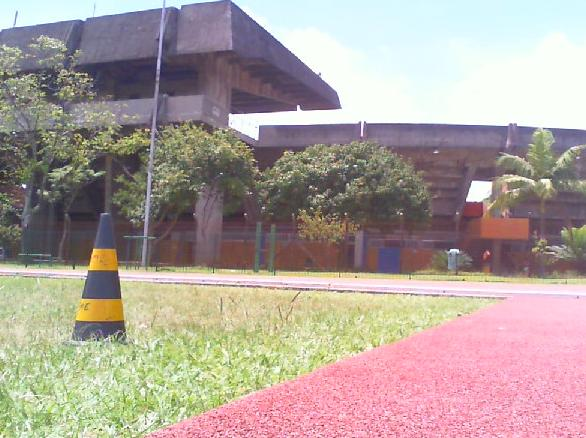0 cone: (63, 212, 134, 347)
